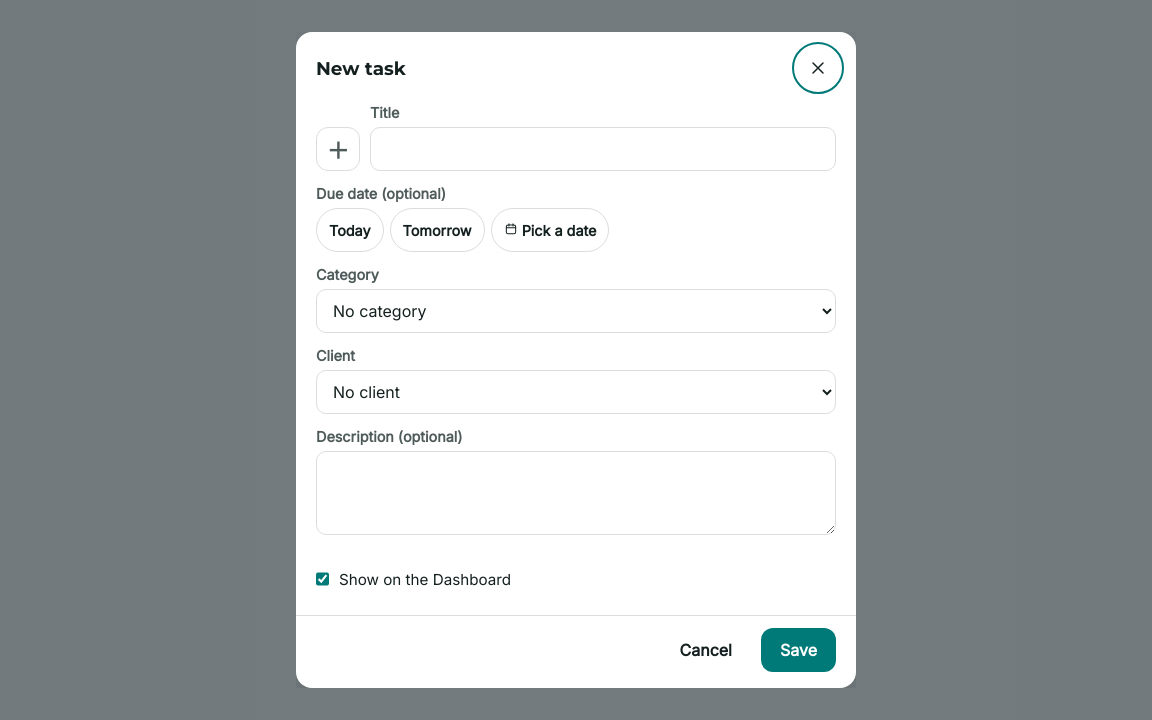
TaskDialog › does not save a blank title and says why
Click the button "Save" at (798, 650), box [761,628,836,672]
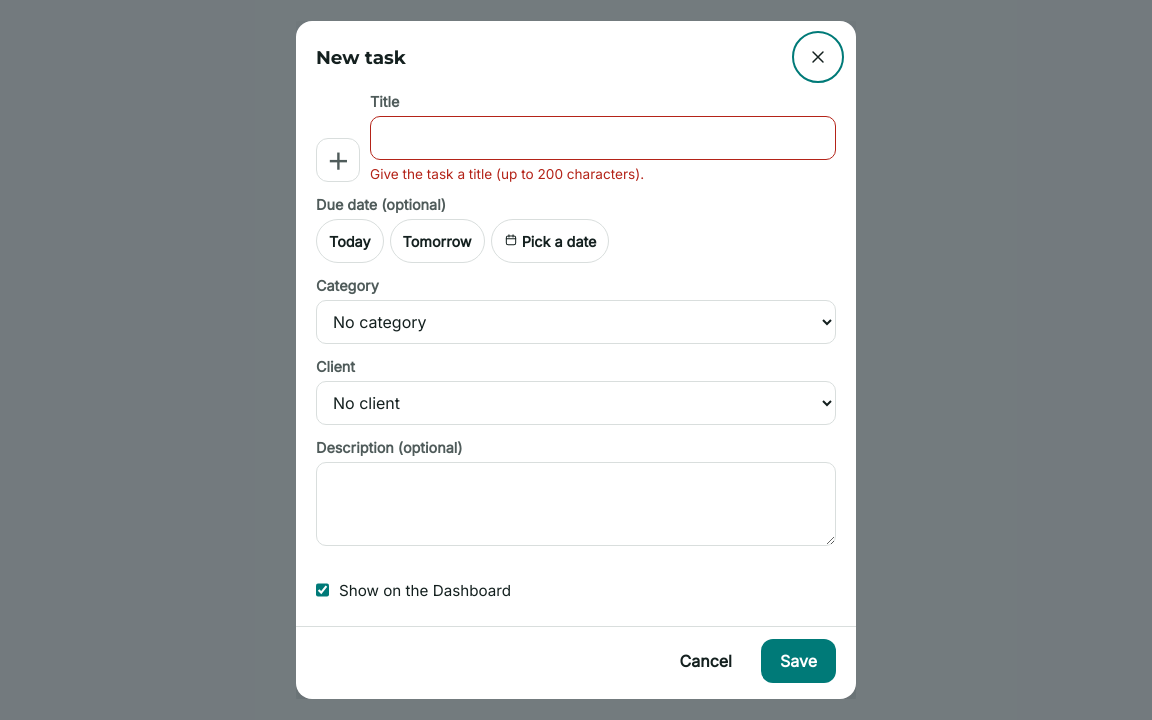
Expected: the text "Give the task a title (up to 200 characters)." is shown, [370,166,644,182]
